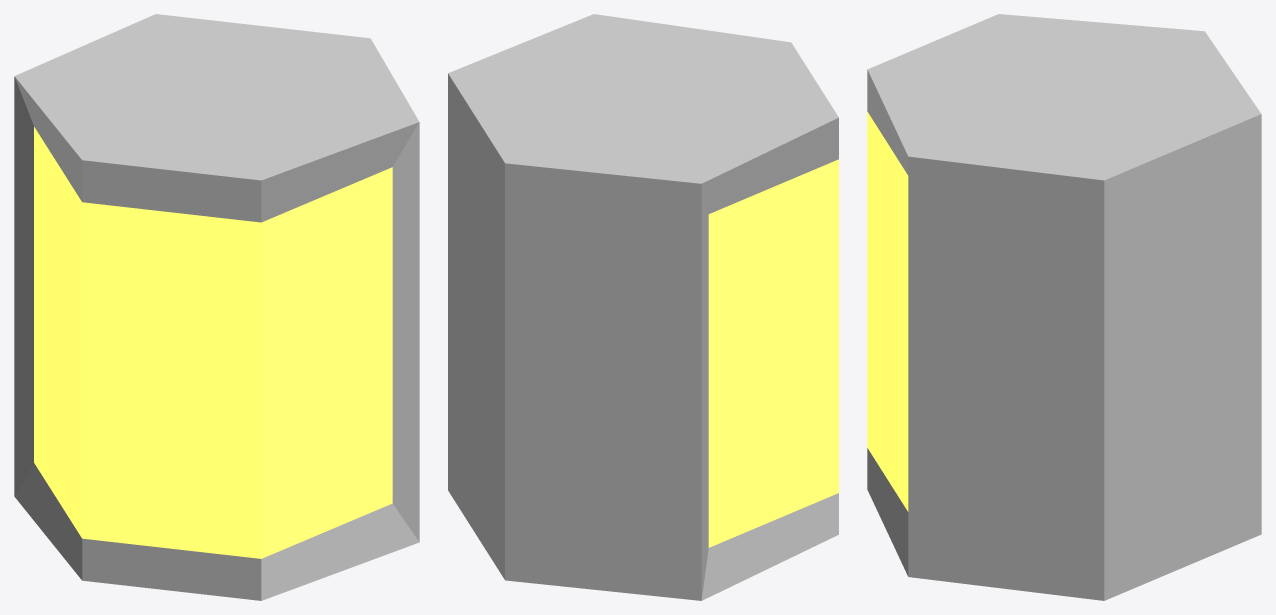
Rendered from Lighthouse_light.glb.
The picture shows the model from 3 angles, left to right: view 1: azimuth 30°, elevation 25°; view 2: azimuth 150°, elevation 25°; view 3: azimuth 270°, elevation 25°; orthographic projection.
Visible parts, largest first — view 1: Lighthouse - Lamp; view 2: Lighthouse - Lamp; view 3: Lighthouse - Lamp.
Part boxes in pixels (<box>): Lighthouse - Lamp: <box>14,14,419,600</box>; Lighthouse - Lamp: <box>448,14,838,600</box>; Lighthouse - Lamp: <box>867,14,1261,600</box>.
Bounding box in the file's own units: 0.1843 × 0.2171 × 0.1843.
